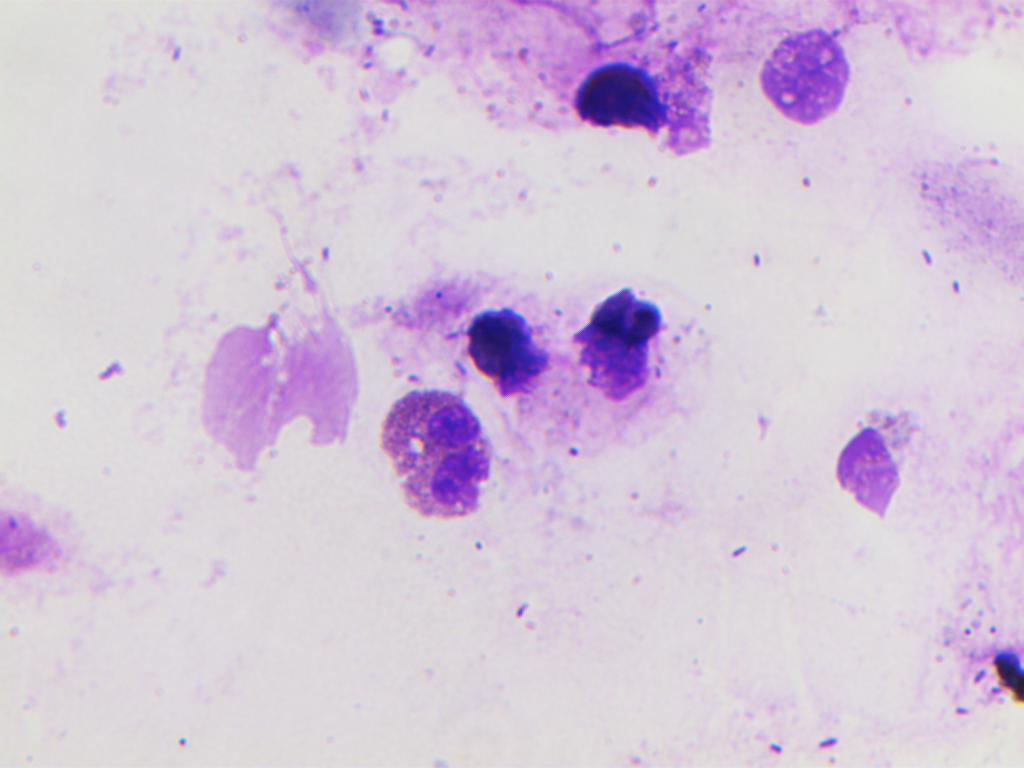artifact: (197, 301, 363, 486), (827, 417, 911, 519), (986, 641, 1024, 711)
epithelial: (365, 379, 500, 537), (562, 43, 703, 162), (570, 267, 681, 404), (748, 26, 863, 147), (441, 294, 563, 402)
